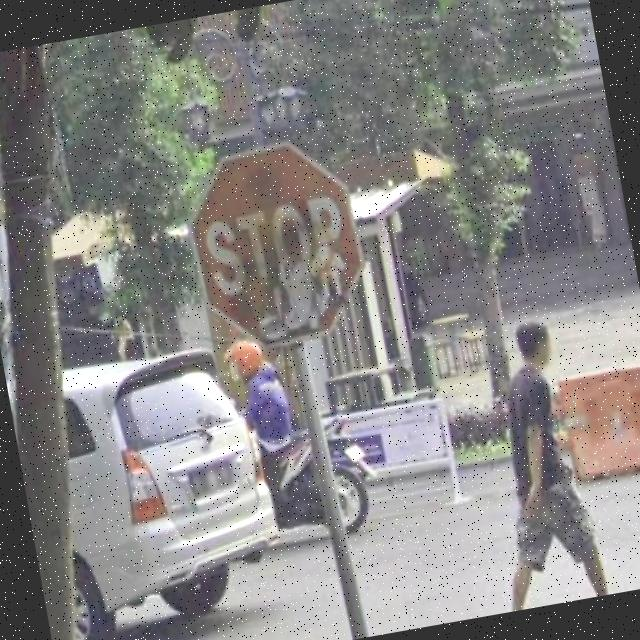Stop: (179, 130, 374, 355)
